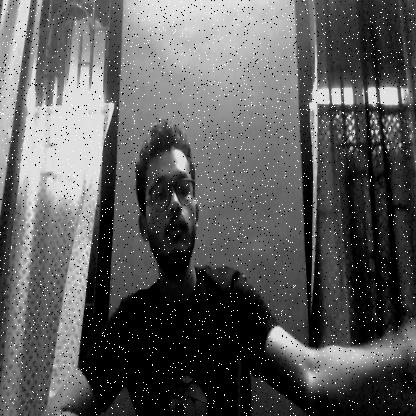Distracted: (134, 116, 209, 275)
